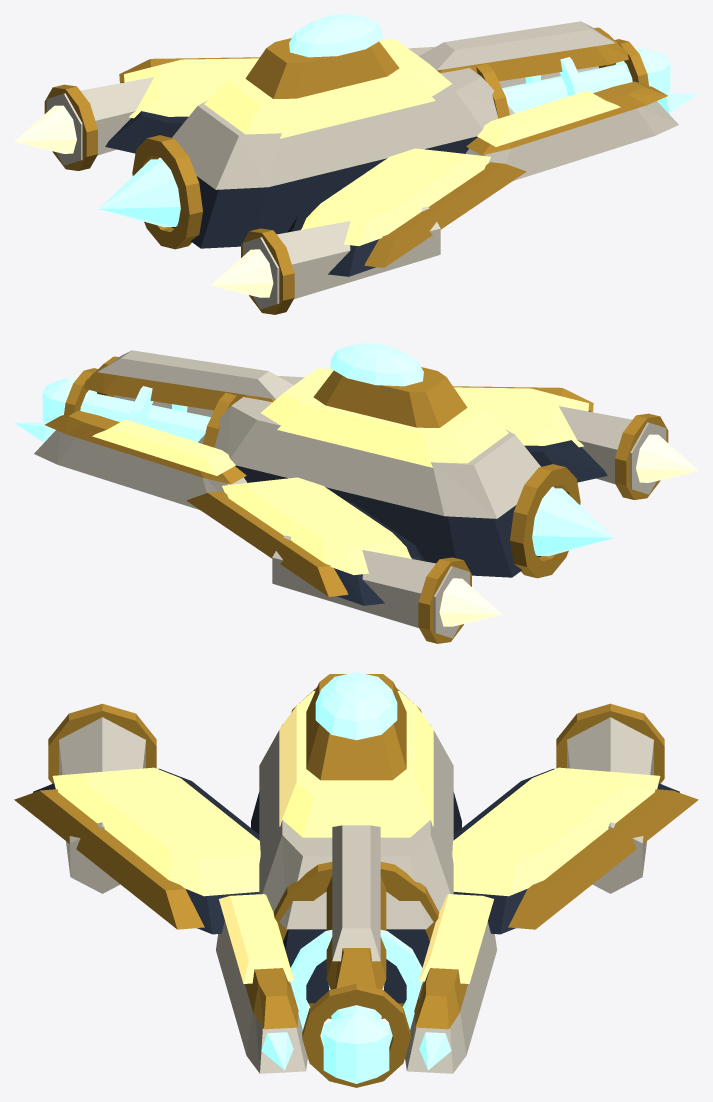
The model's file is crownspire.glb.
3 renders of one model, top to bottom at view 1: azimuth 30°, elevation 25°; view 2: azimuth 150°, elevation 25°; view 3: azimuth 270°, elevation 25°, orthographic. The views are drawn at different scales.
Visible parts, largest first — view 1: Surf_ivory, Surf_TEAM, Surf_gold, Surf_crys, Surf_obs, Surf_GLOW; view 2: Surf_ivory, Surf_TEAM, Surf_gold, Surf_crys, Surf_obs, Surf_GLOW; view 3: Surf_TEAM, Surf_gold, Surf_ivory, Surf_crys, Surf_obs.
Boxes of the visible parts, x1,y1,x2,y2 form: Surf_ivory: (46,21,678,309); Surf_TEAM: (124,39,620,246); Surf_gold: (44,27,667,314); Surf_crys: (99,14,698,227); Surf_obs: (105,82,477,276); Surf_GLOW: (14,105,273,297); Surf_ivory: (34,350,666,638); Surf_TEAM: (92,368,588,575); Surf_gold: (45,356,668,643); Surf_crys: (14,343,613,556); Surf_obs: (235,411,607,605); Surf_GLOW: (439,434,698,626); Surf_TEAM: (52,691,660,983); Surf_gold: (14,674,698,1087); Surf_ivory: (59,717,653,1073); Surf_crys: (261,672,451,1083); Surf_obs: (33,768,679,1003).
Size of the model in its own units: 5.99 by 1.94 by 4.8.
